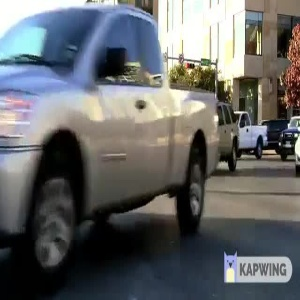truck: (1, 6, 216, 264)
